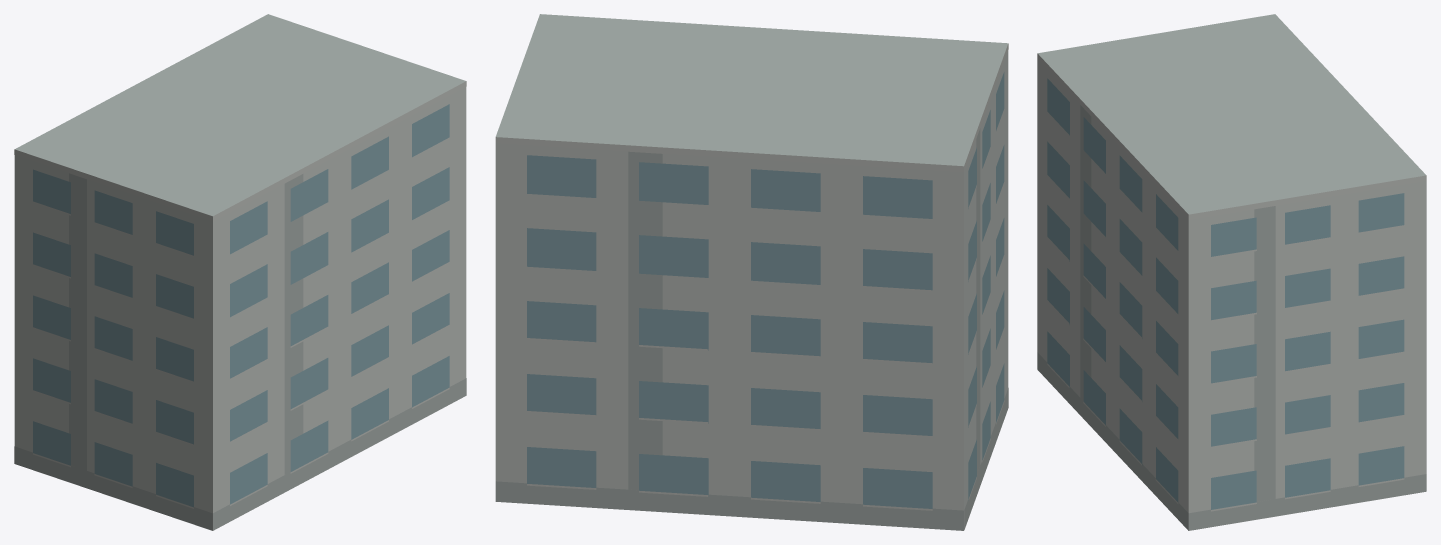
Rendered from survey-upis-32977249.glb.
3 renders of one model, left to right at view 1: azimuth 30°, elevation 25°; view 2: azimuth 150°, elevation 25°; view 3: azimuth 270°, elevation 25°, orthographic. The views are drawn at different scales.
Visible parts, largest first — view 1: survey-upis-32977249.tmp; view 2: survey-upis-32977249.tmp; view 3: survey-upis-32977249.tmp.
Part boxes in pixels (left/top/right/bottom): survey-upis-32977249.tmp: left=14, top=14, right=466, bottom=530; survey-upis-32977249.tmp: left=495, top=14, right=1008, bottom=530; survey-upis-32977249.tmp: left=1037, top=14, right=1426, bottom=530.
Bounding box in the file's own units: 18.78 × 13.8 × 15.4.
